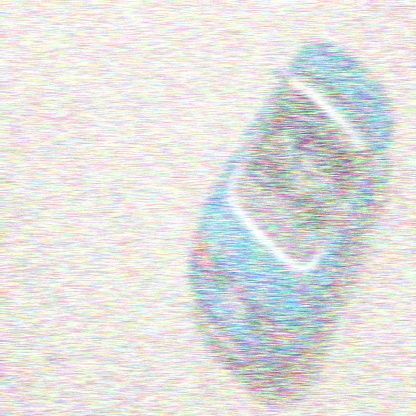Vehicle: (190, 37, 393, 372)
